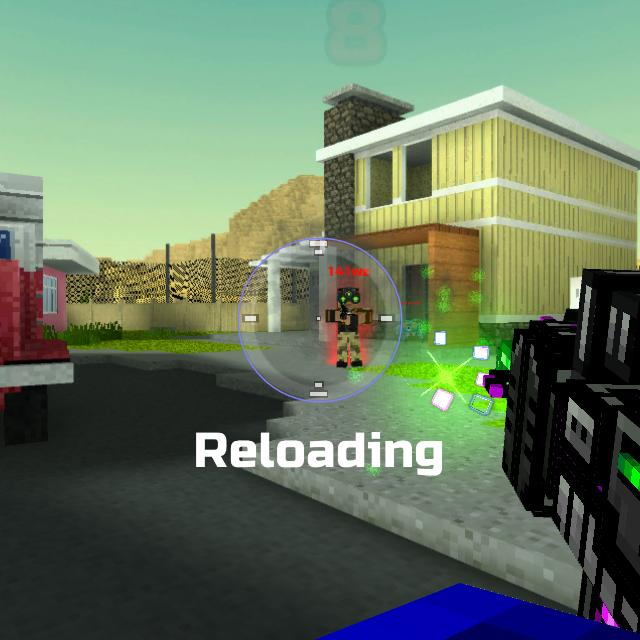Enemy: (324, 286, 374, 368)
